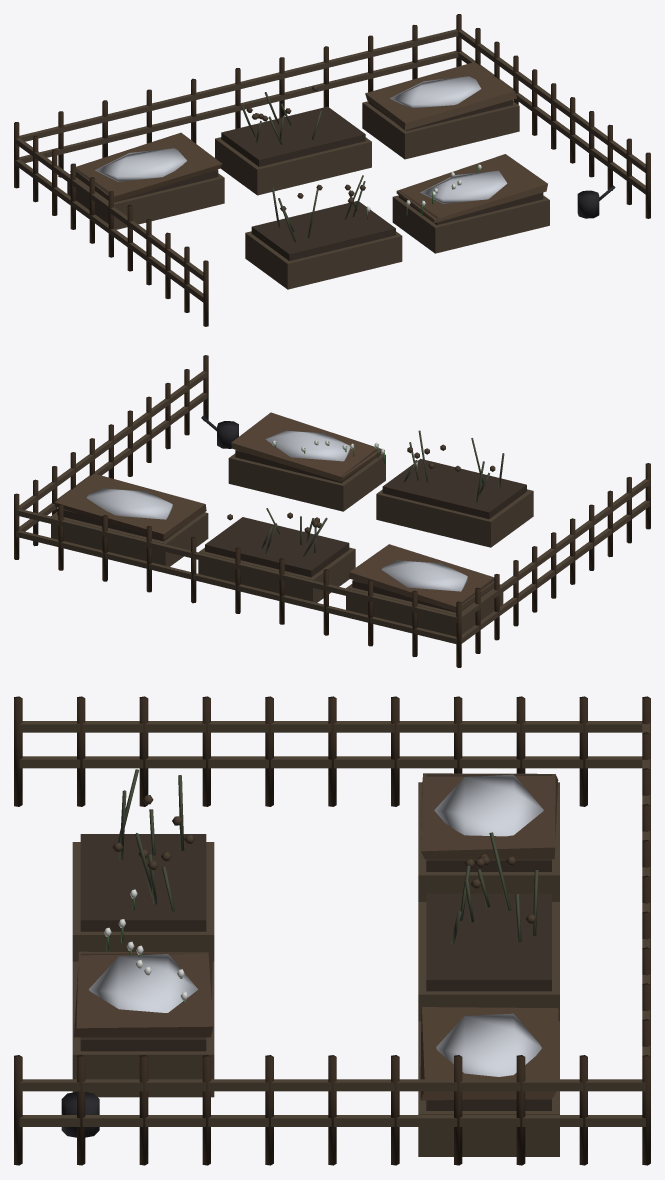
The model's file is elain_garden.glb.
3 views of the same model, one above another, from view 1: azimuth 30°, elevation 25°; view 2: azimuth 150°, elevation 25°; view 3: azimuth 270°, elevation 25° (orthographic). The views are drawn at different scales.
Parts seen in each view (by area): view 1: elain_garden; view 2: elain_garden; view 3: elain_garden.
Part boxes in pixels (x1,y1,x2,y2): elain_garden: (14,14,650,326); elain_garden: (14,355,650,667); elain_garden: (14,696,650,1165).
Size of the model in its own units: 5.46 by 0.9201 by 4.05.
